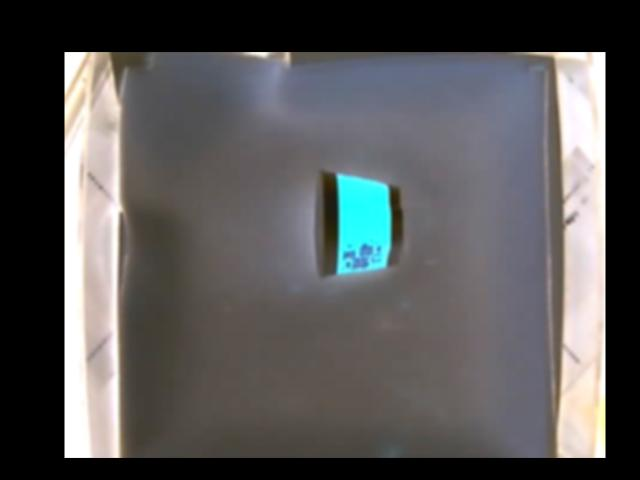Cup: (312, 173, 405, 280)
